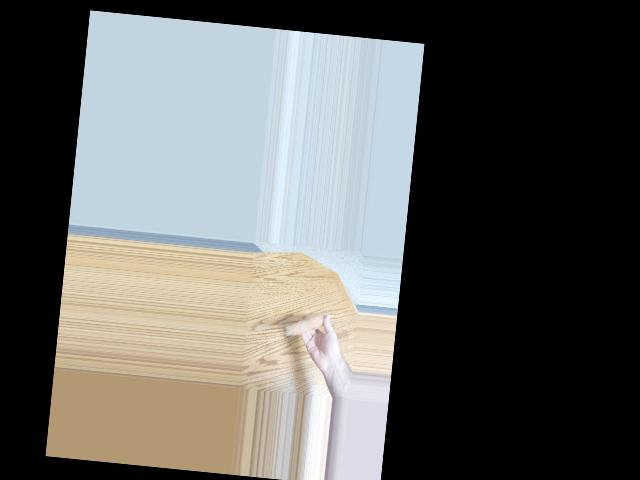sweet_potato: (284, 309, 329, 341)
